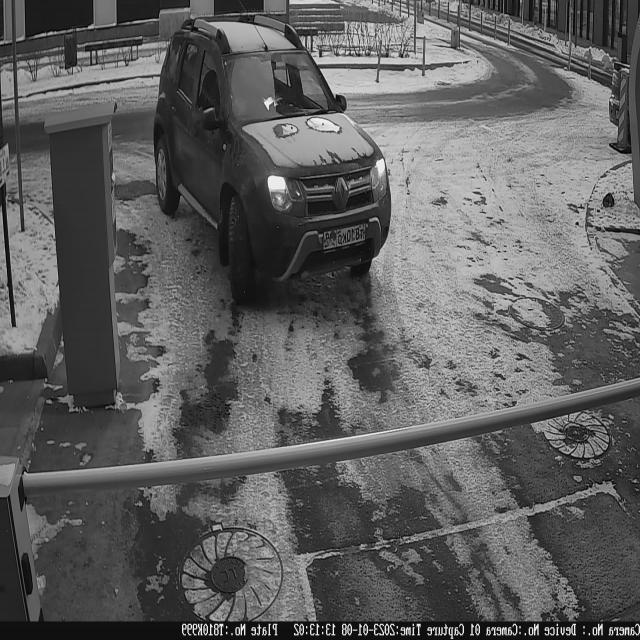car-plate-numbers: (322, 220, 370, 256)
